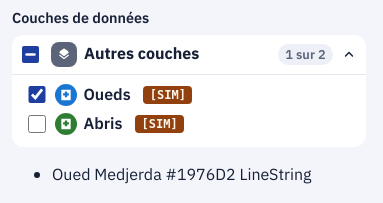
Test: useMapDataLayers › turns on the layers shown by default and draws their lines and areas
expect the checkbox labelled "Abris [SIM]" is not checked: met, box [28,115,46,133]
expect the list item "Oued Medjerda #1976D2 LineString" is shown: met, box [52,163,312,187]
Click the checkbox labelled "Oueds [SIM]". click: (37, 95)
box: [28,86,46,103]
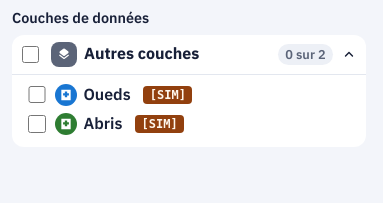
expect the list item "Oued Medjerda" is gone: met
